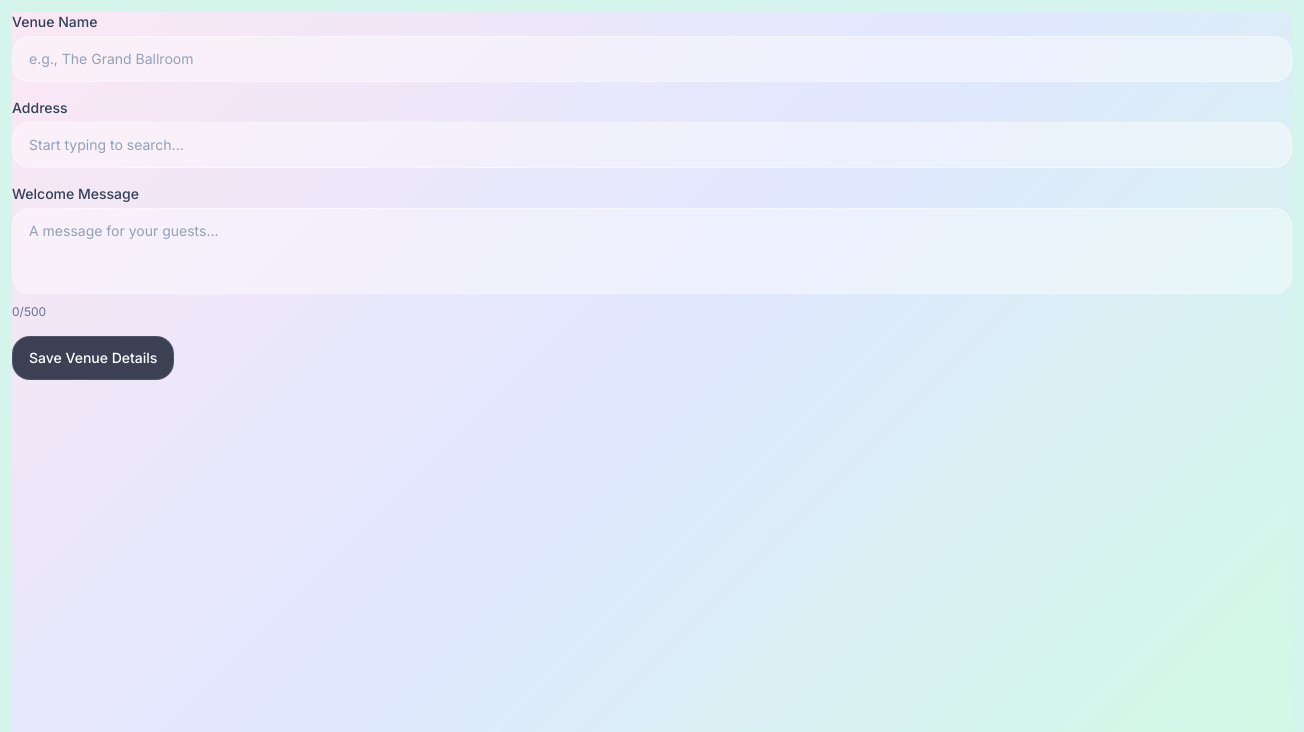
Test case: VenueEditor › shows "Venue details saved!" on successful save
The image size is (1304, 732).
Click the button "Save Venue Details" at (93, 358), box [12,336,174,380]
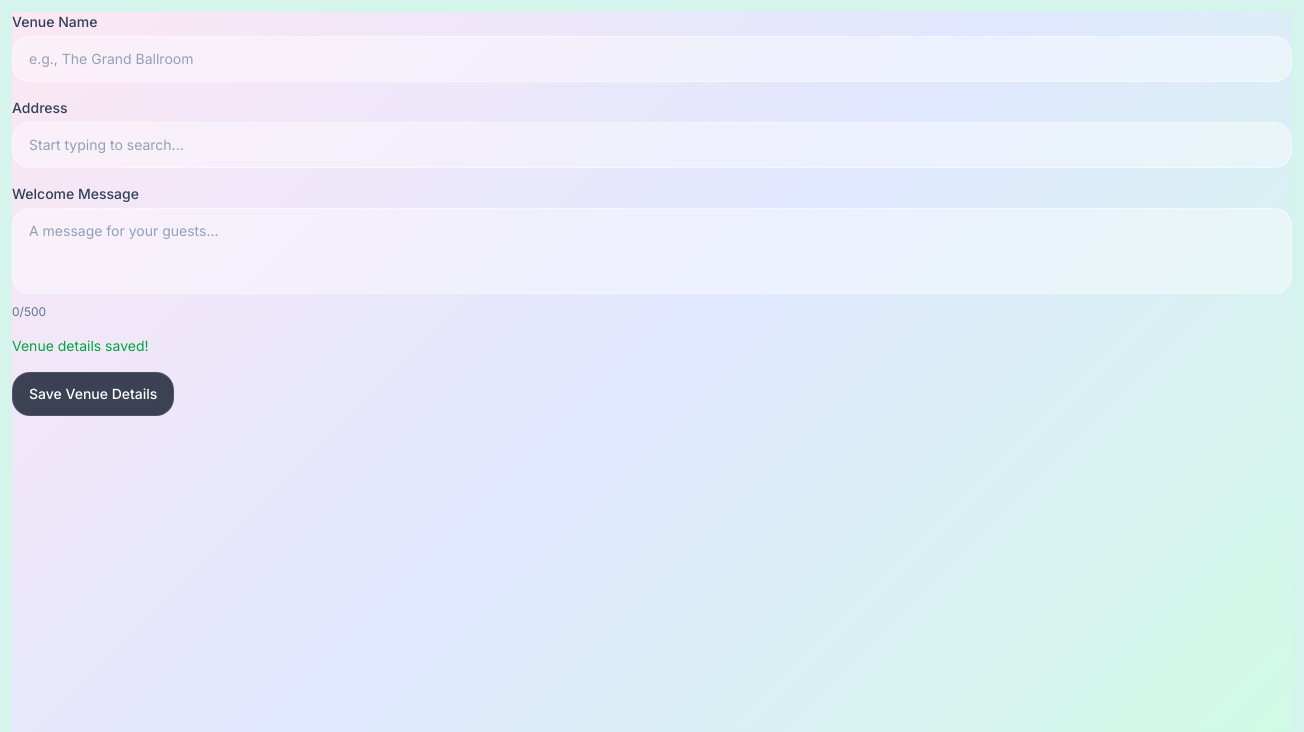
Expected: the text "Venue details saved!" is shown, [12,337,148,354]
